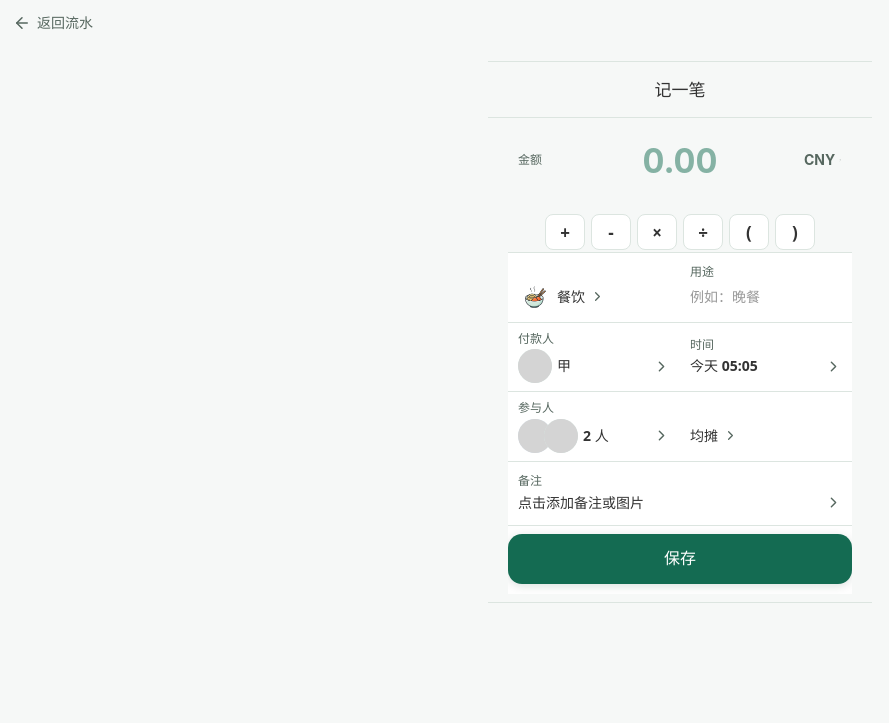
Test case: Expense 参考汇率 › 只在点击后填入建议，手工修改立即清除自动来源
Click the button with aria-label "币种：".
click(823, 160)  # box x1=794 y1=138 x2=852 y2=182
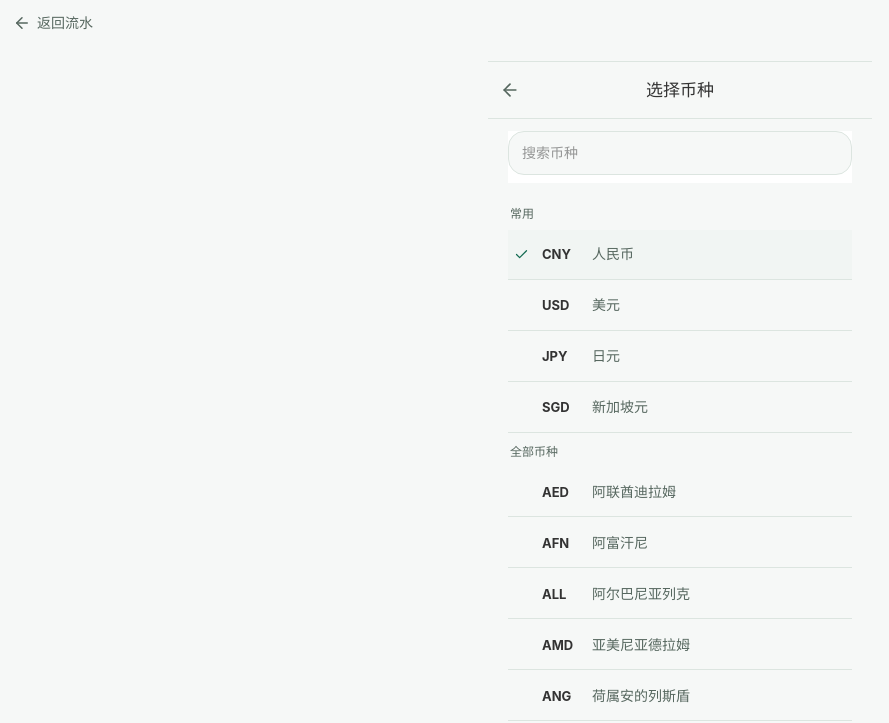
Click the button "JPY 日元".
click(555, 356)  # box x1=508 y1=332 x2=852 y2=382
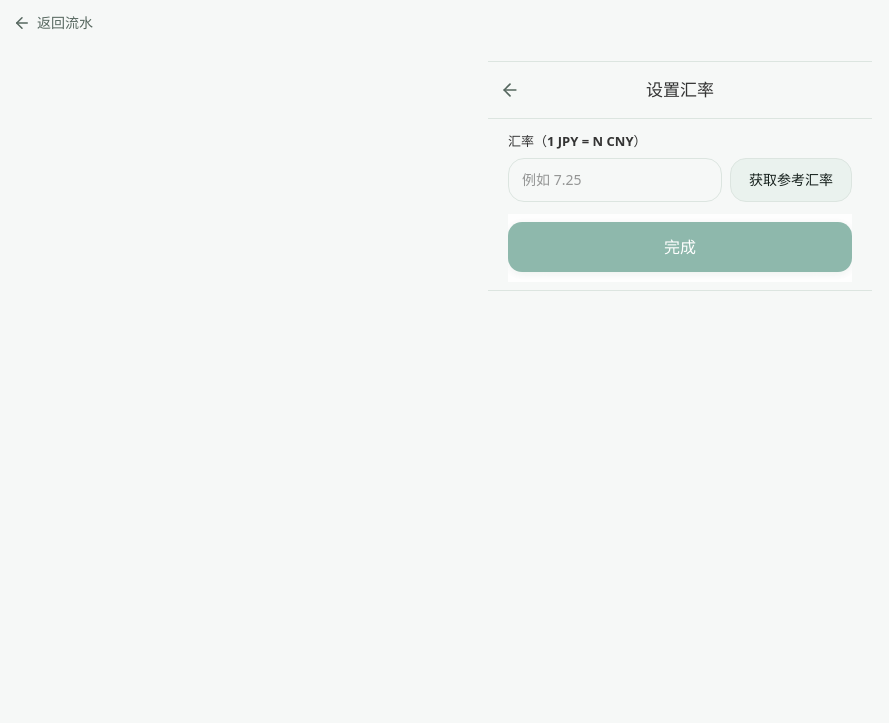
Click the button "获取参考汇率".
click(791, 180)  # box x1=730 y1=158 x2=852 y2=202
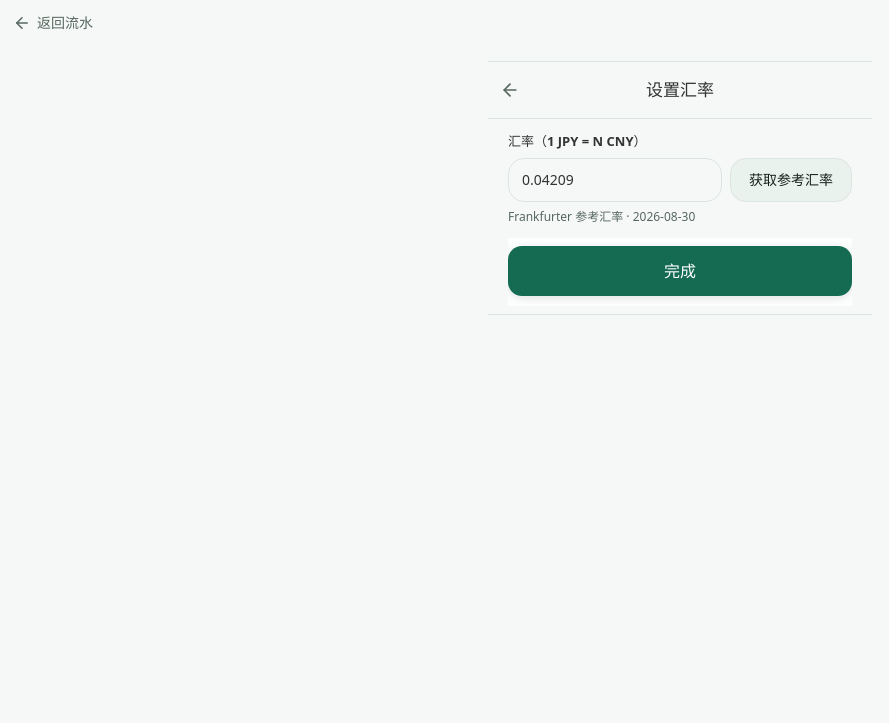
Expected: the field with placeholder "例如 7.25" holds "0.04209"
Expected: the text "Frankfurter 参考汇率 · 2026-08-30" is shown, x1=508 y1=208 x2=695 y2=225
Replace the text in the field with placeholder "例如 7.25" with "0.043" at {"x": 615, "y": 180}, box x1=508 y1=158 x2=722 y2=202
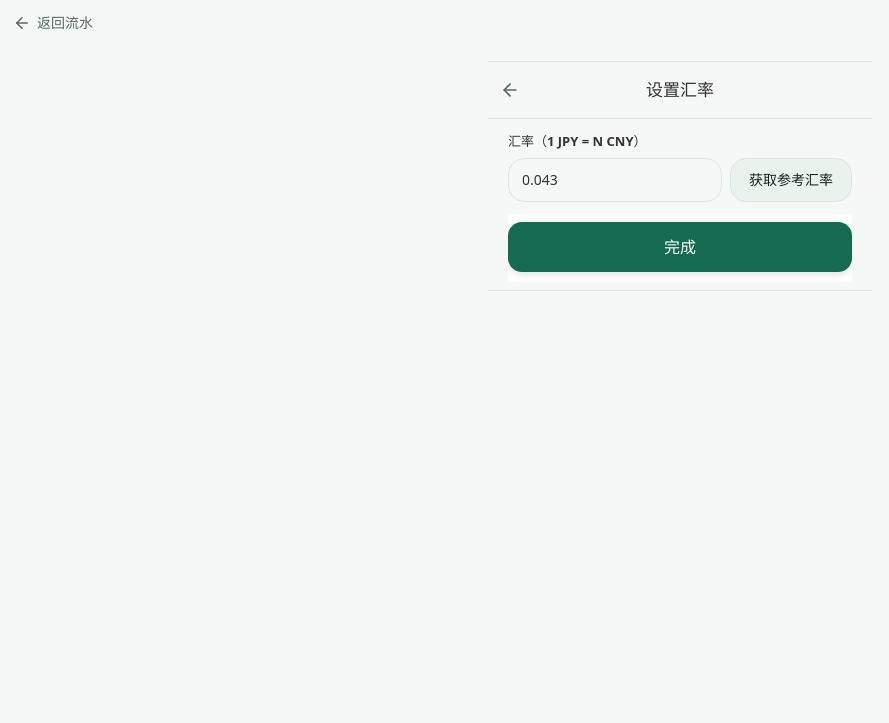
Expected: the text "Frankfurter 参考汇率" is gone
